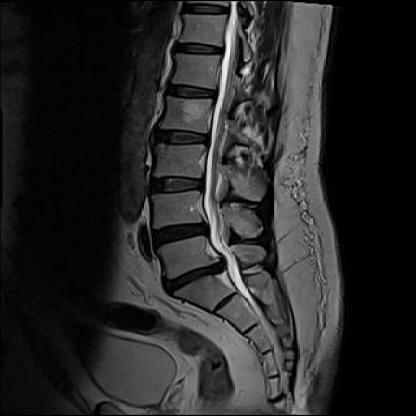Degenerative Disc Diseaserotation: (159, 258, 231, 293), (144, 218, 211, 248), (148, 173, 203, 197)
Disc Bulgerotation: (161, 257, 231, 293), (145, 218, 214, 249), (147, 173, 205, 197)
